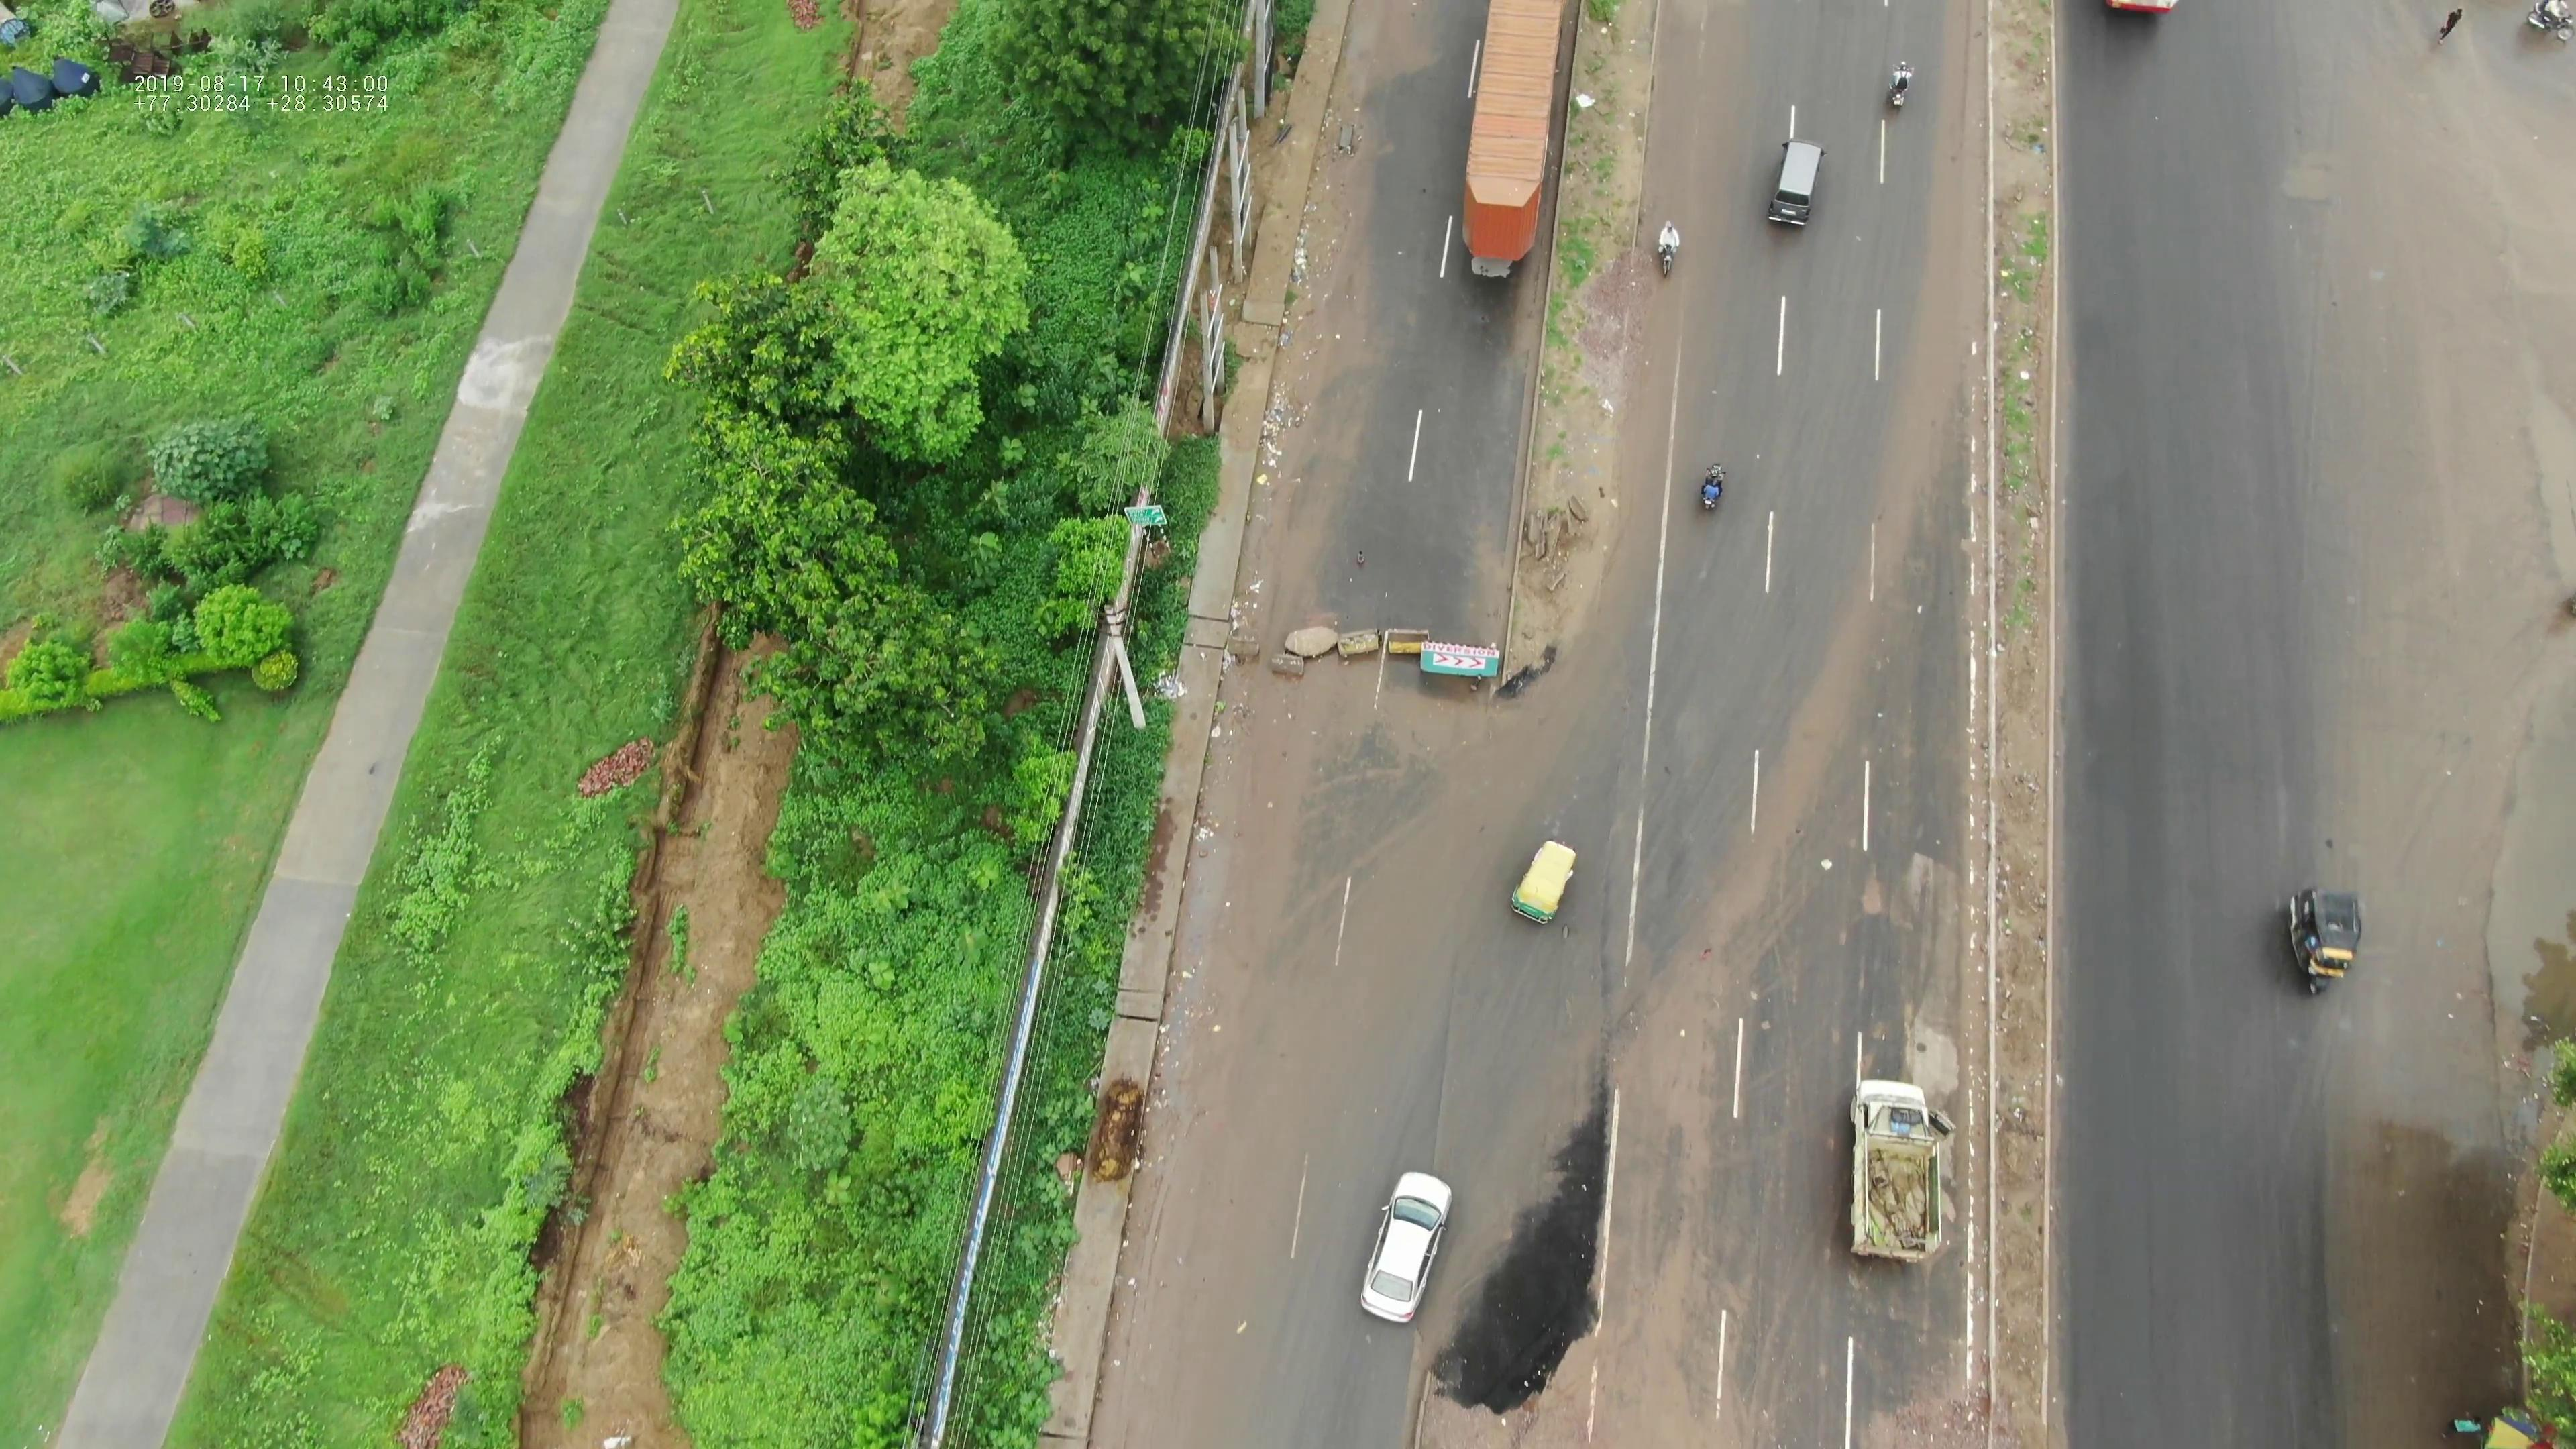Muddy_road: (1079, 1093, 1249, 1384), (1192, 791, 1304, 1079)
